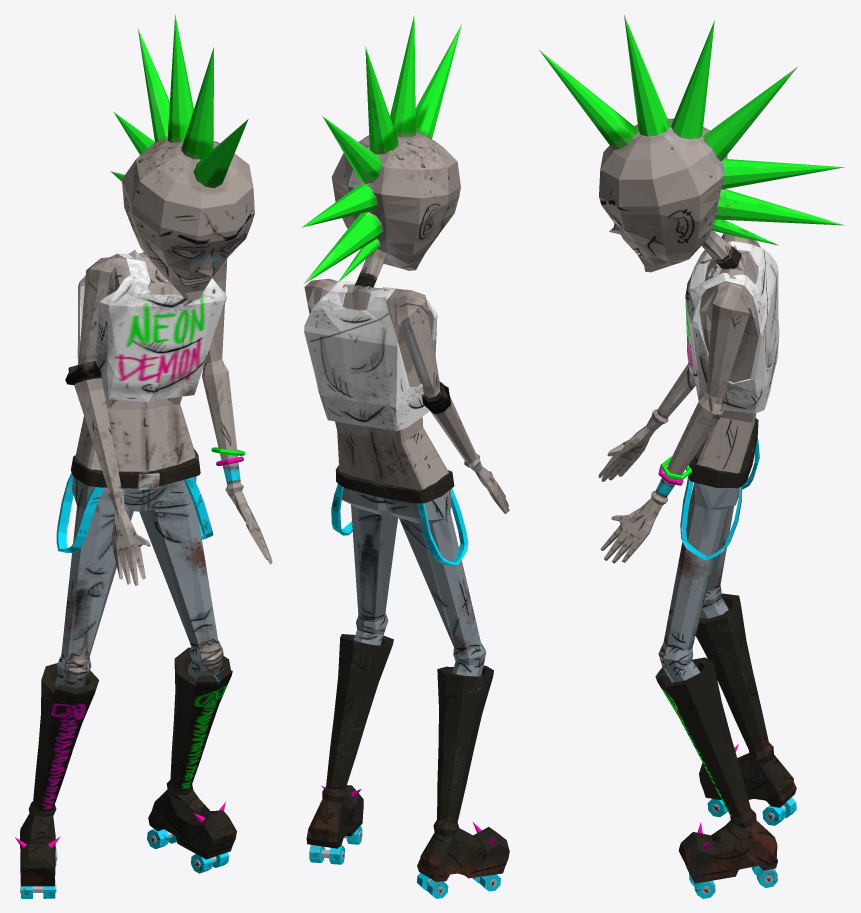
The model's file is punkAnimation_000055.obj.
3 views of the same model, side by side, from view 1: azimuth 30°, elevation 25°; view 2: azimuth 150°, elevation 25°; view 3: azimuth 270°, elevation 25° (orthographic). The views are drawn at different scales.
Parts seen in each view (by area): view 1: Cube.004_Cube.003; view 2: Cube.004_Cube.003; view 3: Cube.004_Cube.003.
Part boxes in pixels (left/top/right/bottom): Cube.004_Cube.003: left=15, top=14, right=272, bottom=898; Cube.004_Cube.003: left=302, top=15, right=509, bottom=898; Cube.004_Cube.003: left=539, top=15, right=845, bottom=898.
Bounding box in the file's own units: 1.9 × 7.42 × 2.41.
